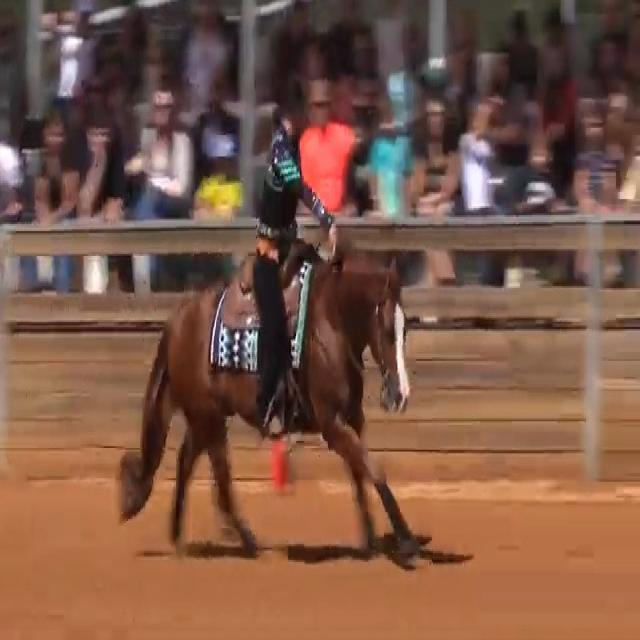horse: (116, 247, 429, 562)
